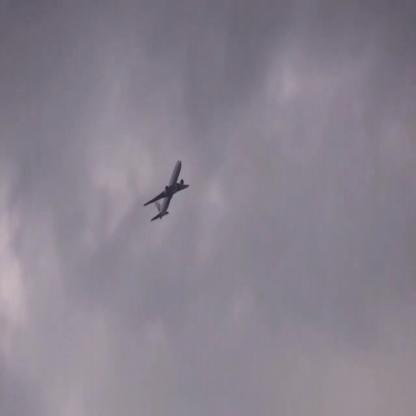CIV_Plane: (143, 161, 189, 221)
